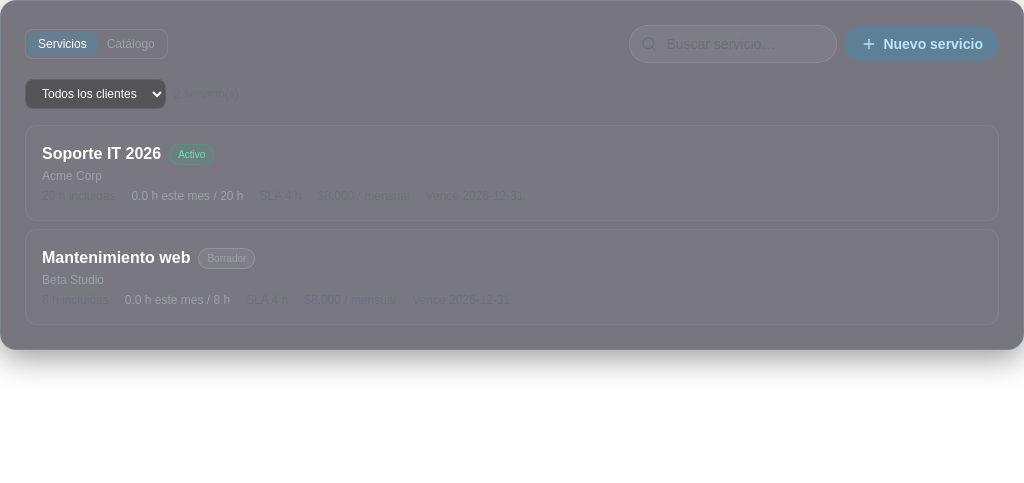
Scenario: ContractsSection › lets a catalog service be contracted to an existing or new client
The image size is (1024, 483).
Click the button "Catálogo" at (131, 44), box [97,32,165,56]
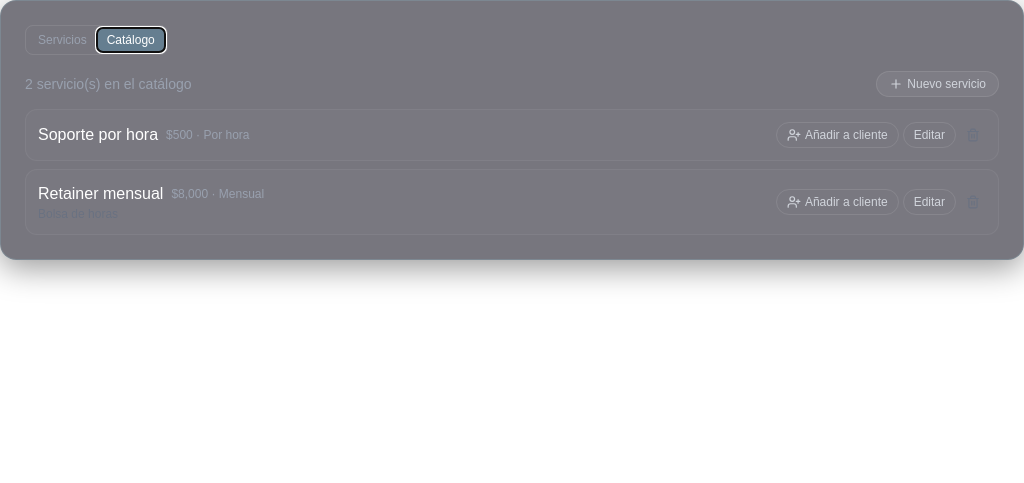
Click the button "Añadir a cliente" in the row of "$500" at (837, 135), box [776,122,899,148]
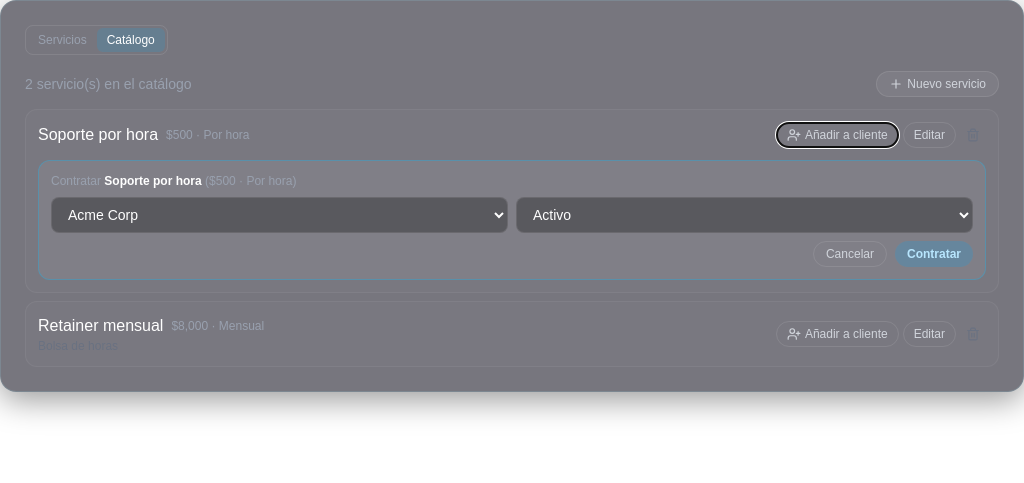
# Picking "nuevo" reveals the new-client fields.
Select "+ Cliente nuevo…" in the 1st dropdown at (280, 215), box [51,197,508,233]
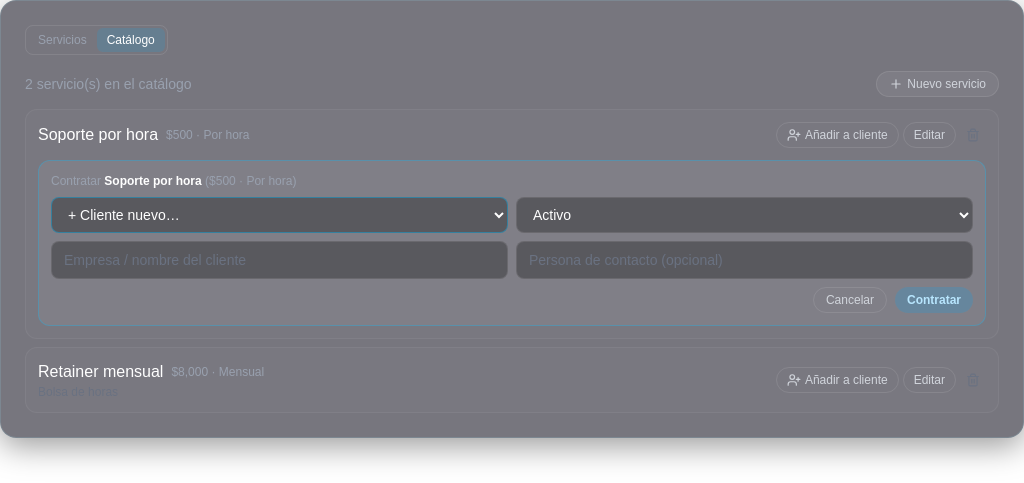
Now the button "Contratar" is shown, box [895,287,973,313]
Now the field with placeholder "Empresa / nombre del cliente" is shown, box [51,241,508,279]
